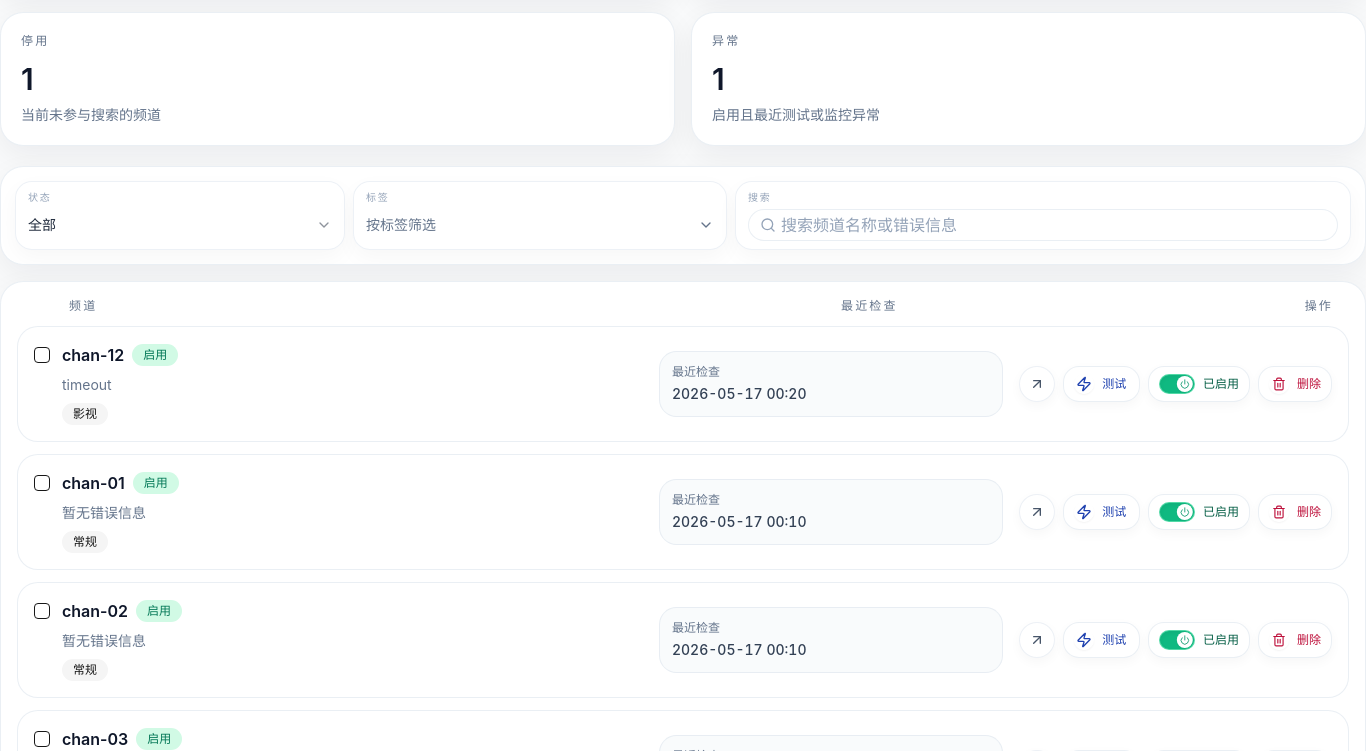
Test: ChannelManagementView › 当前详情项被筛选移除时关闭详情抽屉
(page scrolled)
Expected: the heading "chan-01" is shown, left=62, top=471, right=125, bottom=495
Click the button named "查看频道 chan-12 详情" at (1037, 384), box left=1019, top=366, right=1055, bottom=402
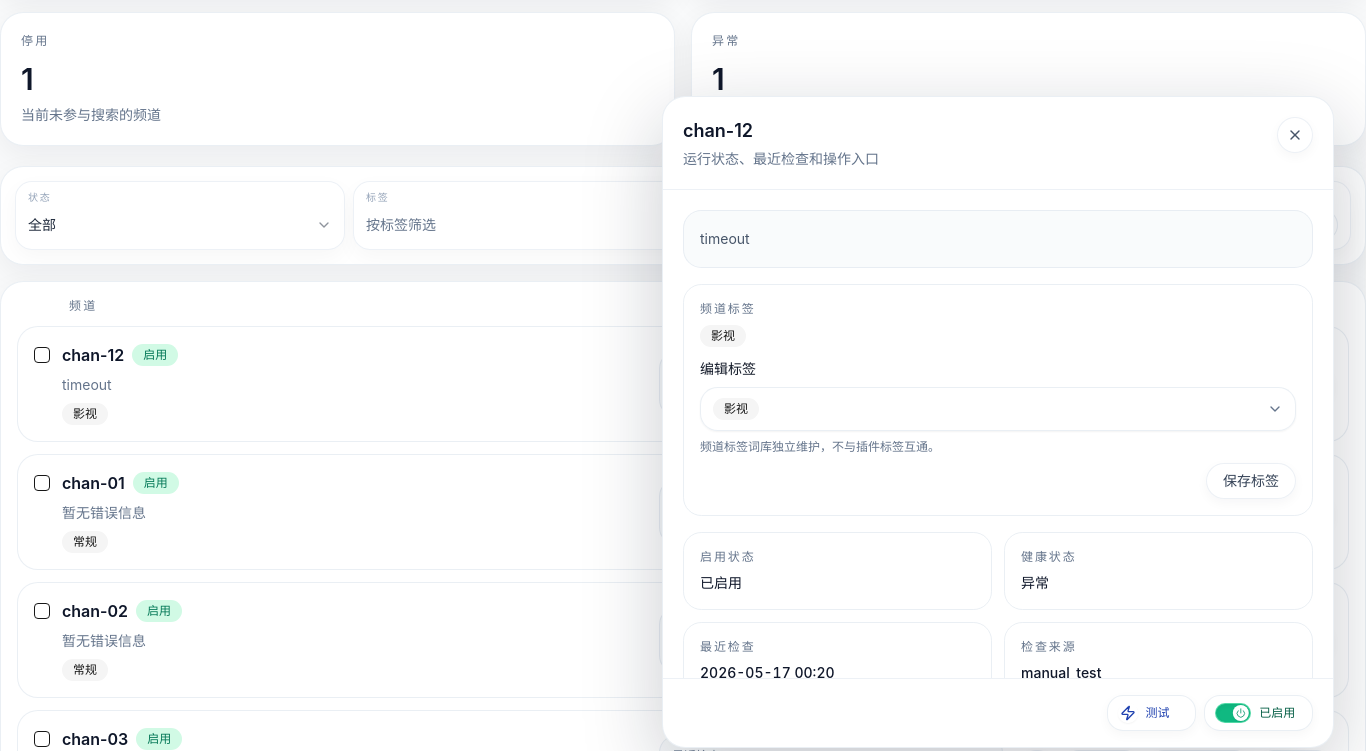
Expected: the dialog with test id "channel-management-drawer" is shown, left=662, top=96, right=1334, bottom=748
Click the dropdown named "频道状态筛选" at (42, 224), box left=28, top=209, right=332, bottom=241
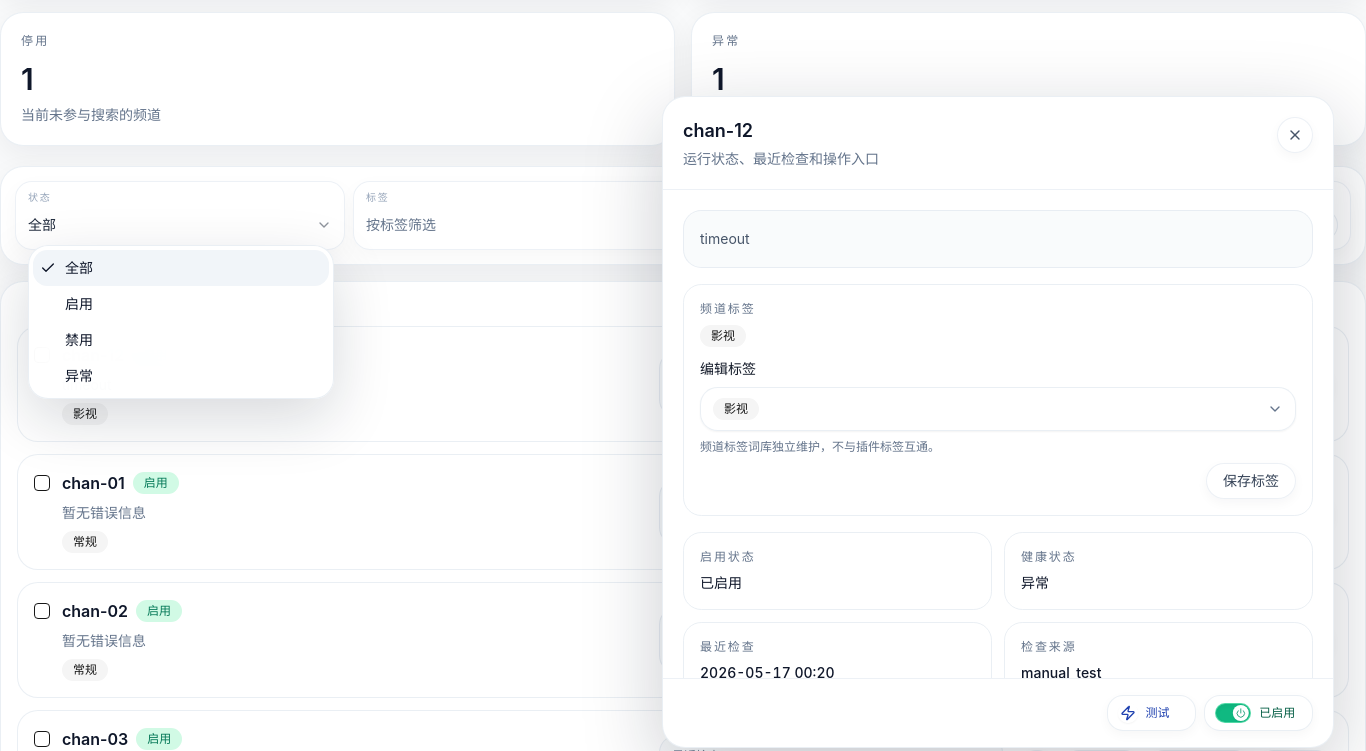
Click the option "禁用" at (79, 340), box left=65, top=331, right=93, bottom=348
(page scrolled)
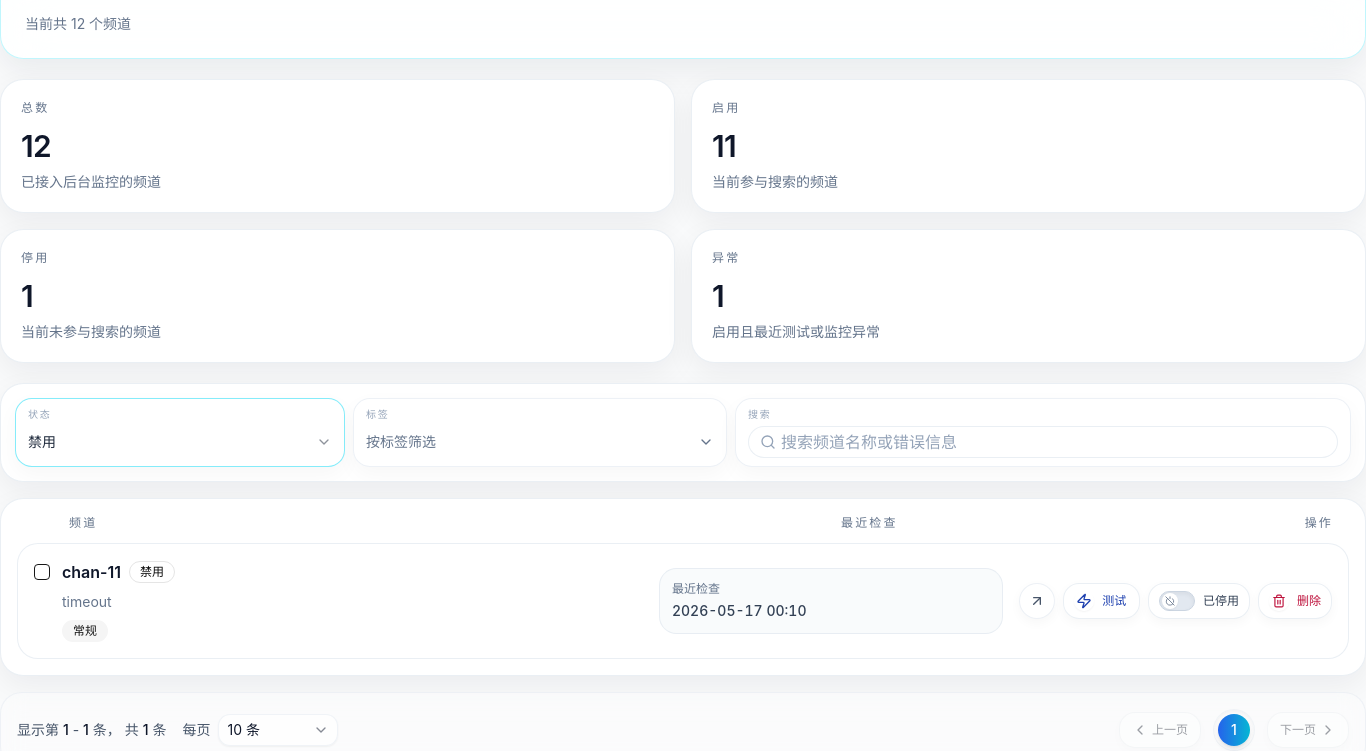
Expected: the dialog with test id "channel-management-drawer" is gone
